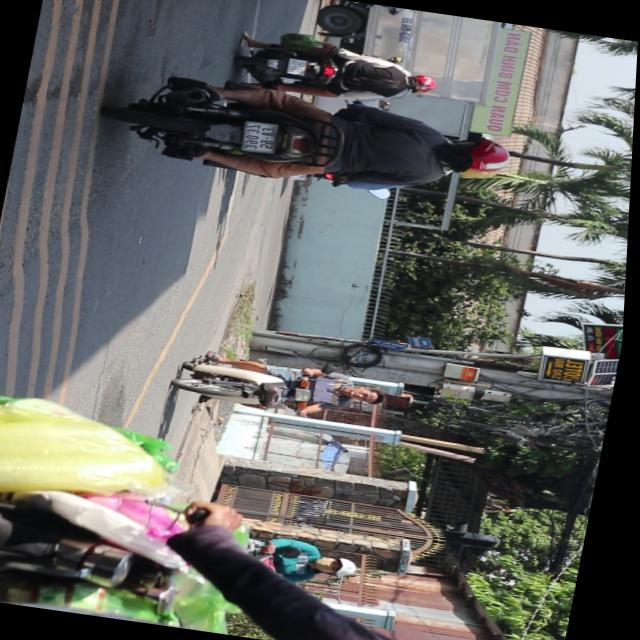helmet: (444, 134, 516, 179), (407, 74, 440, 95)
licenseplate: (105, 66, 527, 220), (171, 346, 393, 429), (230, 29, 446, 113)
motorcyclist: (350, 386, 388, 408)
nohelmet: (243, 122, 281, 154), (288, 58, 309, 76)
